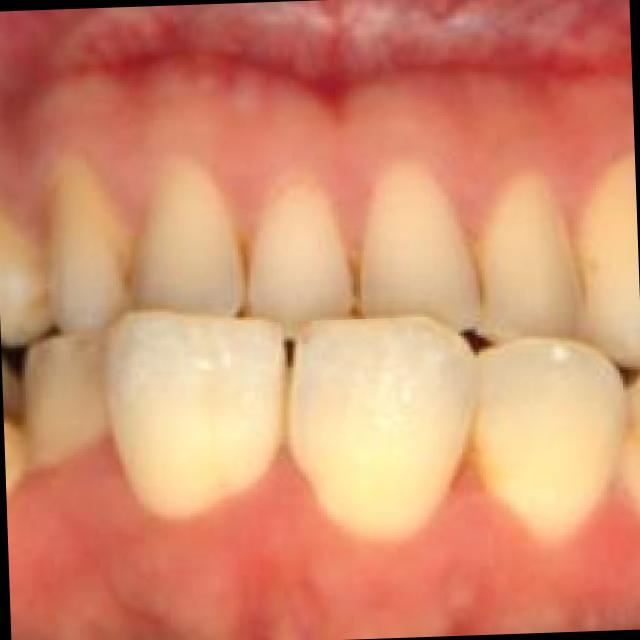cavity: (222, 230, 266, 324), (447, 417, 498, 496), (106, 234, 148, 298), (463, 240, 491, 315), (338, 256, 366, 320)
